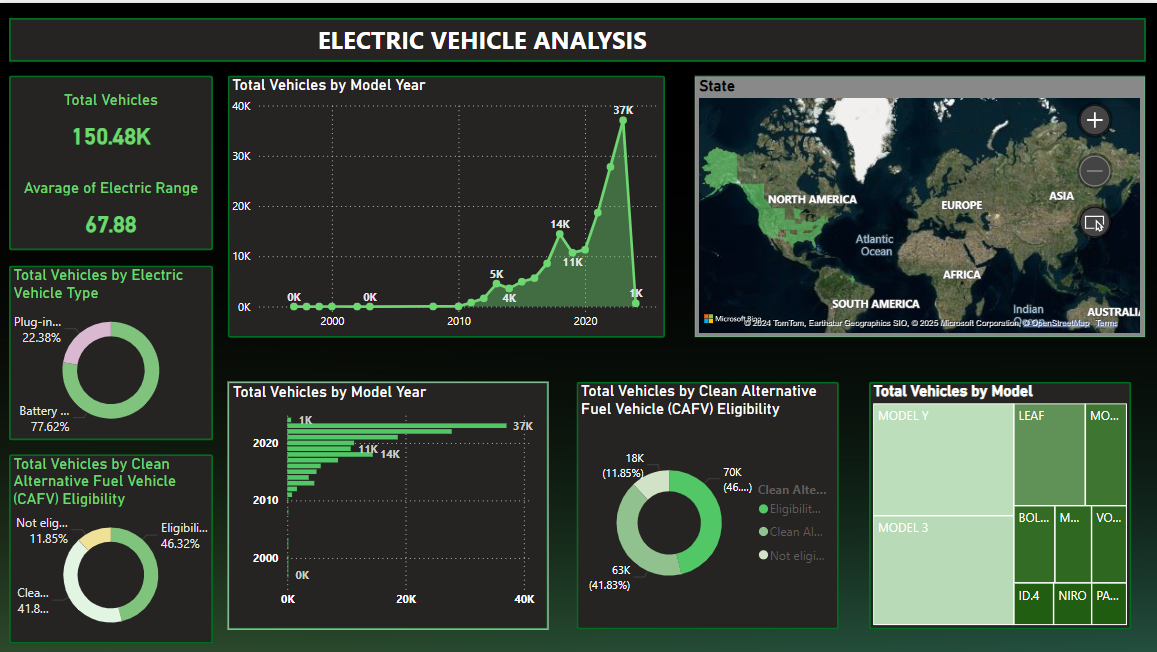

What the dashboard file says about the page in this screenshot:
{"tool":"powerbi","page":{"name":"Page 1","canvas":[1280,720],"ordinal":0},"visuals":[{"type":"shape","box":[16,16,1248,48],"z":0},{"type":"shape","box":[16,80,224,192],"z":1000},{"type":"card","title":"Total Vehicles","fields":{"Values":["Electric_Vehicle_Population_Data (1).Total Vehicles"]},"box":[16,96,224,80],"z":2000},{"type":"card","title":"Avarage of Electric Range ","fields":{"Values":["Avg(Electric_Vehicle_Population_Data (1).Electric Range)"]},"box":[16,192,224,80],"z":3000},{"type":"shape","box":[16,288,224,192],"z":4000},{"type":"shape","box":[16,496,224,208],"z":5000},{"type":"donutChart","fields":{"Category":["Electric_Vehicle_Population_Data (1).Electric Vehicle Type"],"Y":["Electric_Vehicle_Population_Data (1).Total Vehicles"]},"box":[16,288,224,192],"z":6000},{"type":"donutChart","fields":{"Y":["Electric_Vehicle_Population_Data (1).Total Vehicles"],"Category":["Electric_Vehicle_Population_Data (1).Clean Alternative Fuel Vehicle (CAFV) Eligibility"]},"box":[16,496,224,208],"z":7000},{"type":"shape","box":[256,80,480,288],"z":9000},{"type":"areaChart","fields":{"Category":["Electric_Vehicle_Population_Data (1).Model Year"],"Y":["Electric_Vehicle_Population_Data (1).Total Vehicles"]},"box":[256,80,480,288],"z":10000},{"type":"shape","box":[768,80,496,288],"z":11000},{"type":"filledMap","fields":{"Category":["Electric_Vehicle_Population_Data (1).State"]},"box":[768,80,496,288],"z":12000},{"type":"shape","box":[256,416,352,272],"z":13000},{"type":"barChart","fields":{"Category":["Electric_Vehicle_Population_Data (1).Model Year"],"Y":["Electric_Vehicle_Population_Data (1).Total Vehicles"]},"box":[256,416,352,272],"z":14000},{"type":"shape","box":[640,416,288,272],"z":15000},{"type":"shape","box":[960,416,288,272],"z":16000},{"type":"donutChart","fields":{"Category":["Electric_Vehicle_Population_Data (1).Clean Alternative Fuel Vehicle (CAFV) Eligibility"],"Y":["Electric_Vehicle_Population_Data (1).Total Vehicles"]},"box":[640,416,288,272],"z":17000},{"type":"treemap","fields":{"Group":["Electric_Vehicle_Population_Data (1).Model"],"Values":["Electric_Vehicle_Population_Data (1).Total Vehicles"]},"box":[960,416,288,272],"z":18000},{"type":"textbox","box":[48,16,976,48],"z":19000}]}

Visuals, with their boxes in screenshot pixels (x1, y1, x2, y2), scaled from the page's 1280x720 canvas onto the 1157x652 screenshot:
shape: bbox(14, 14, 1143, 58)
shape: bbox(14, 72, 217, 246)
"Total Vehicles" card: bbox(14, 87, 217, 159)
"Avarage of Electric Range " card: bbox(14, 174, 217, 246)
shape: bbox(14, 261, 217, 435)
shape: bbox(14, 449, 217, 638)
donutChart - Electric_Vehicle_Population_Data (1).Electric Vehicle Type x Electric_Vehicle_Population_Data (1).Total Vehicles: bbox(14, 261, 217, 435)
donutChart - Electric_Vehicle_Population_Data (1).Total Vehicles x Electric_Vehicle_Population_Data (1).Clean Alternative Fuel Vehicle (CAFV) Eligibility: bbox(14, 449, 217, 638)
shape: bbox(231, 72, 665, 333)
areaChart - Electric_Vehicle_Population_Data (1).Model Year x Electric_Vehicle_Population_Data (1).Total Vehicles: bbox(231, 72, 665, 333)
shape: bbox(694, 72, 1143, 333)
filledMap - Electric_Vehicle_Population_Data (1).State: bbox(694, 72, 1143, 333)
shape: bbox(231, 377, 550, 623)
barChart - Electric_Vehicle_Population_Data (1).Model Year x Electric_Vehicle_Population_Data (1).Total Vehicles: bbox(231, 377, 550, 623)
shape: bbox(578, 377, 839, 623)
shape: bbox(868, 377, 1128, 623)
donutChart - Electric_Vehicle_Population_Data (1).Clean Alternative Fuel Vehicle (CAFV) Eligibility x Electric_Vehicle_Population_Data (1).Total Vehicles: bbox(578, 377, 839, 623)
treemap - Electric_Vehicle_Population_Data (1).Model x Electric_Vehicle_Population_Data (1).Total Vehicles: bbox(868, 377, 1128, 623)
textbox: bbox(43, 14, 926, 58)
